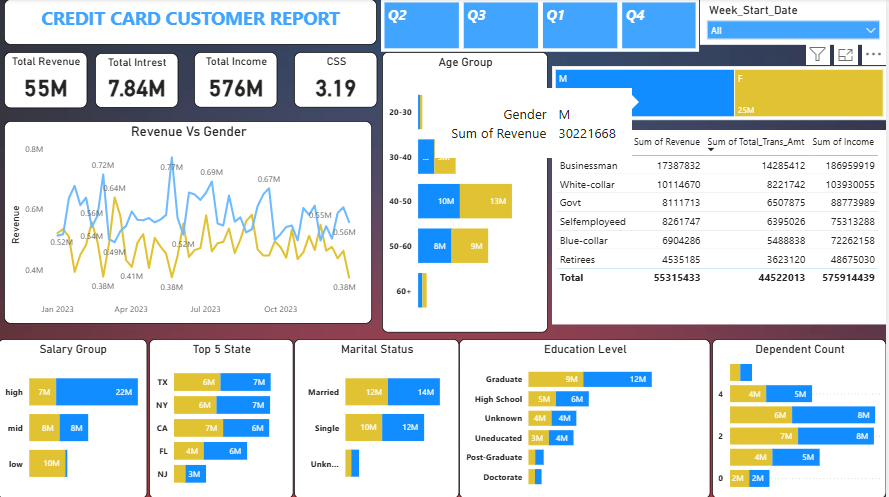

The page's visual inventory and layout, read from the dashboard file:
{"tool":"powerbi","page":{"name":"customer ","canvas":[1280,720],"ordinal":1},"visuals":[{"type":"textbox","box":[8.6,0,537.1,66.2],"z":0},{"type":"slicer","fields":{"Values":["credit_card.Week_Start_Date"]},"box":[1011.2,0,268.8,66.2],"z":1000},{"type":"treemap","fields":{"Group":["credit_card.Qtr"],"Values":["CountNonNull(credit_card.Client_Num)"]},"box":[552,0,458,76],"z":2000},{"type":"card","title":"Total Revenue","fields":{"Values":["Sum(credit_card.Revenue)"]},"box":[8.6,76.3,119.5,80.6],"z":3000},{"type":"card","title":"Total Intrest","fields":{"Values":["Sum(credit_card.Interest_Earned)"]},"box":[139.7,77.8,119.5,79.2],"z":4000},{"type":"card","title":"Total Income","fields":{"Values":["Sum(customer.Income)"]},"box":[282,76,120,80],"z":5000},{"type":"card","title":"CSS","fields":{"Values":["Avg(customer.Cust_Satisfaction_Score)"]},"box":[426,76,120,80],"z":6000},{"type":"tableEx","fields":{"Values":["customer.Customer_Job","Sum(credit_card.Revenue)","Sum(credit_card.Total_Trans_Amt)","Sum(customer.Income)"]},"box":[798,188,482,280],"z":7000},{"type":"lineChart","title":"Revenue Vs Gender","fields":{"Y":["Sum(credit_card.Revenue)"],"Series":["customer.Gender"],"Category":["credit_card.Week_Start_Date.Variation.Date Hierarchy.Year","credit_card.Week_Start_Date.Variation.Date Hierarchy.Month","credit_card.Week_Start_Date.Variation.Date Hierarchy.Day"]},"box":[8.6,175.7,529.9,292.3],"z":8000},{"type":"treemap","fields":{"Group":["customer.Gender"],"Values":["Sum(credit_card.Revenue)"]},"box":[798,96,482,78],"z":9000},{"type":"barChart","title":"Salary Group","fields":{"Category":["customer.Income group"],"Y":["Sum(credit_card.Revenue)"],"Series":["customer.Gender"]},"box":[0,489.6,214.6,230.4],"z":10000},{"type":"barChart","title":"Top 5 State","fields":{"Category":["customer.state_cd"],"Y":["Sum(credit_card.Revenue)"],"Series":["customer.Gender"]},"box":[218,490,208,230],"z":11000},{"type":"barChart","title":"Age Group","fields":{"Category":["customer.age group"],"Y":["Sum(credit_card.Revenue)"],"Series":["customer.Gender"]},"box":[552.9,75.7,238.6,404.3],"z":12000},{"type":"barChart","title":"Marital Status","fields":{"Category":["customer.Marital_Status"],"Y":["Sum(credit_card.Revenue)"],"Series":["customer.Gender"]},"box":[426,490,238,230],"z":13000},{"type":"barChart","title":"Education Level","fields":{"Category":["customer.Education_Level"],"Y":["Sum(credit_card.Revenue)"],"Series":["customer.Gender"]},"box":[664,490,362,230],"z":14000},{"type":"barChart","title":"Dependent Count","fields":{"Category":["customer.Dependent_Count"],"Y":["Sum(credit_card.Revenue)"],"Series":["customer.Gender"]},"box":[1028.6,490,251.4,230],"z":15000}]}

Visuals, with their boxes in screenshot pixels (x1, y1, x2, y2), scaled from the page's 1280x720 canvas onto the 889x497 screenshot:
textbox: (6,0,379,46)
slicer - credit_card.Week_Start_Date: (702,0,888,46)
treemap - credit_card.Qtr x CountNonNull(credit_card.Client_Num): (383,0,701,52)
"Total Revenue" card: (6,53,89,108)
"Total Intrest" card: (97,54,180,108)
"Total Income" card: (196,52,279,108)
"CSS" card: (296,52,379,108)
tableEx - customer.Customer_Job x Sum(credit_card.Revenue): (554,130,888,323)
"Revenue Vs Gender" lineChart: (6,121,374,323)
treemap - customer.Gender x Sum(credit_card.Revenue): (554,66,888,120)
"Salary Group" barChart: (0,338,149,496)
"Top 5 State" barChart: (151,338,296,496)
"Age Group" barChart: (384,52,550,331)
"Marital Status" barChart: (296,338,461,496)
"Education Level" barChart: (461,338,713,496)
"Dependent Count" barChart: (714,338,888,496)
